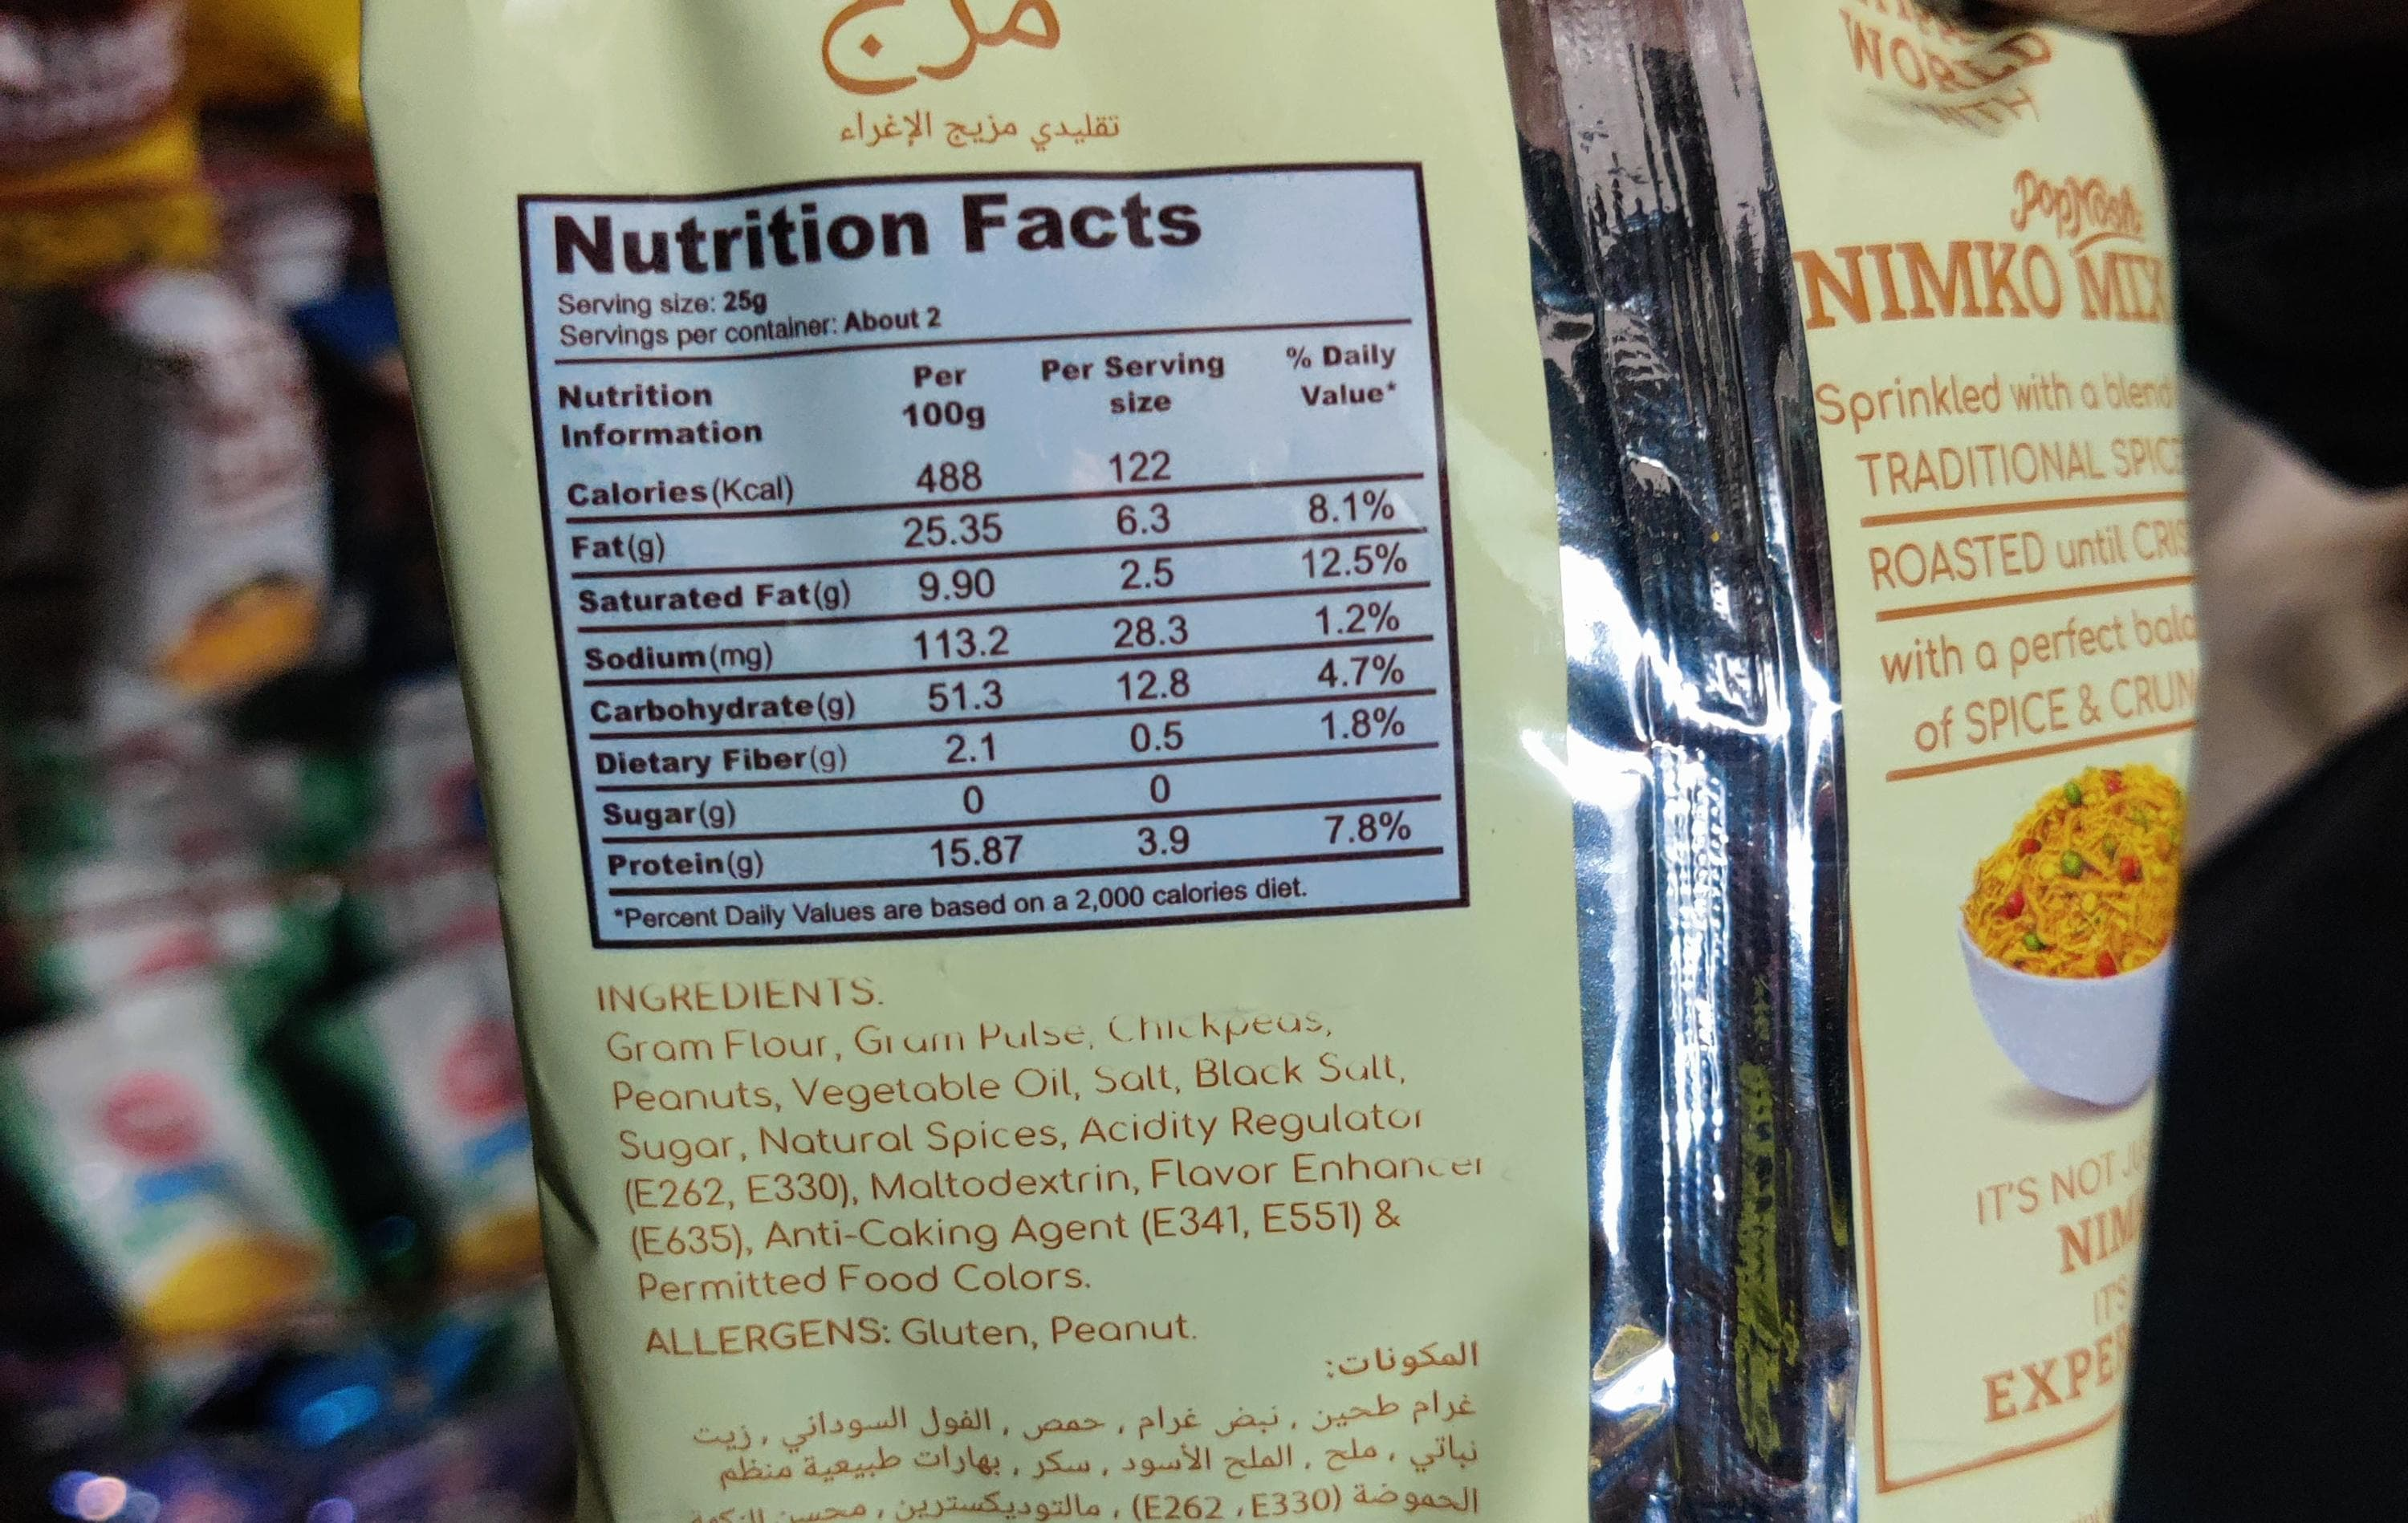table: (516, 160, 1467, 969)
